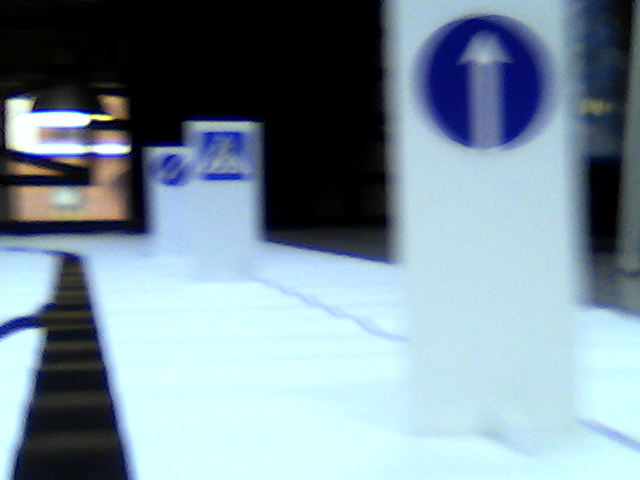forw: (419, 15, 552, 150)
pesh: (194, 130, 249, 184)
